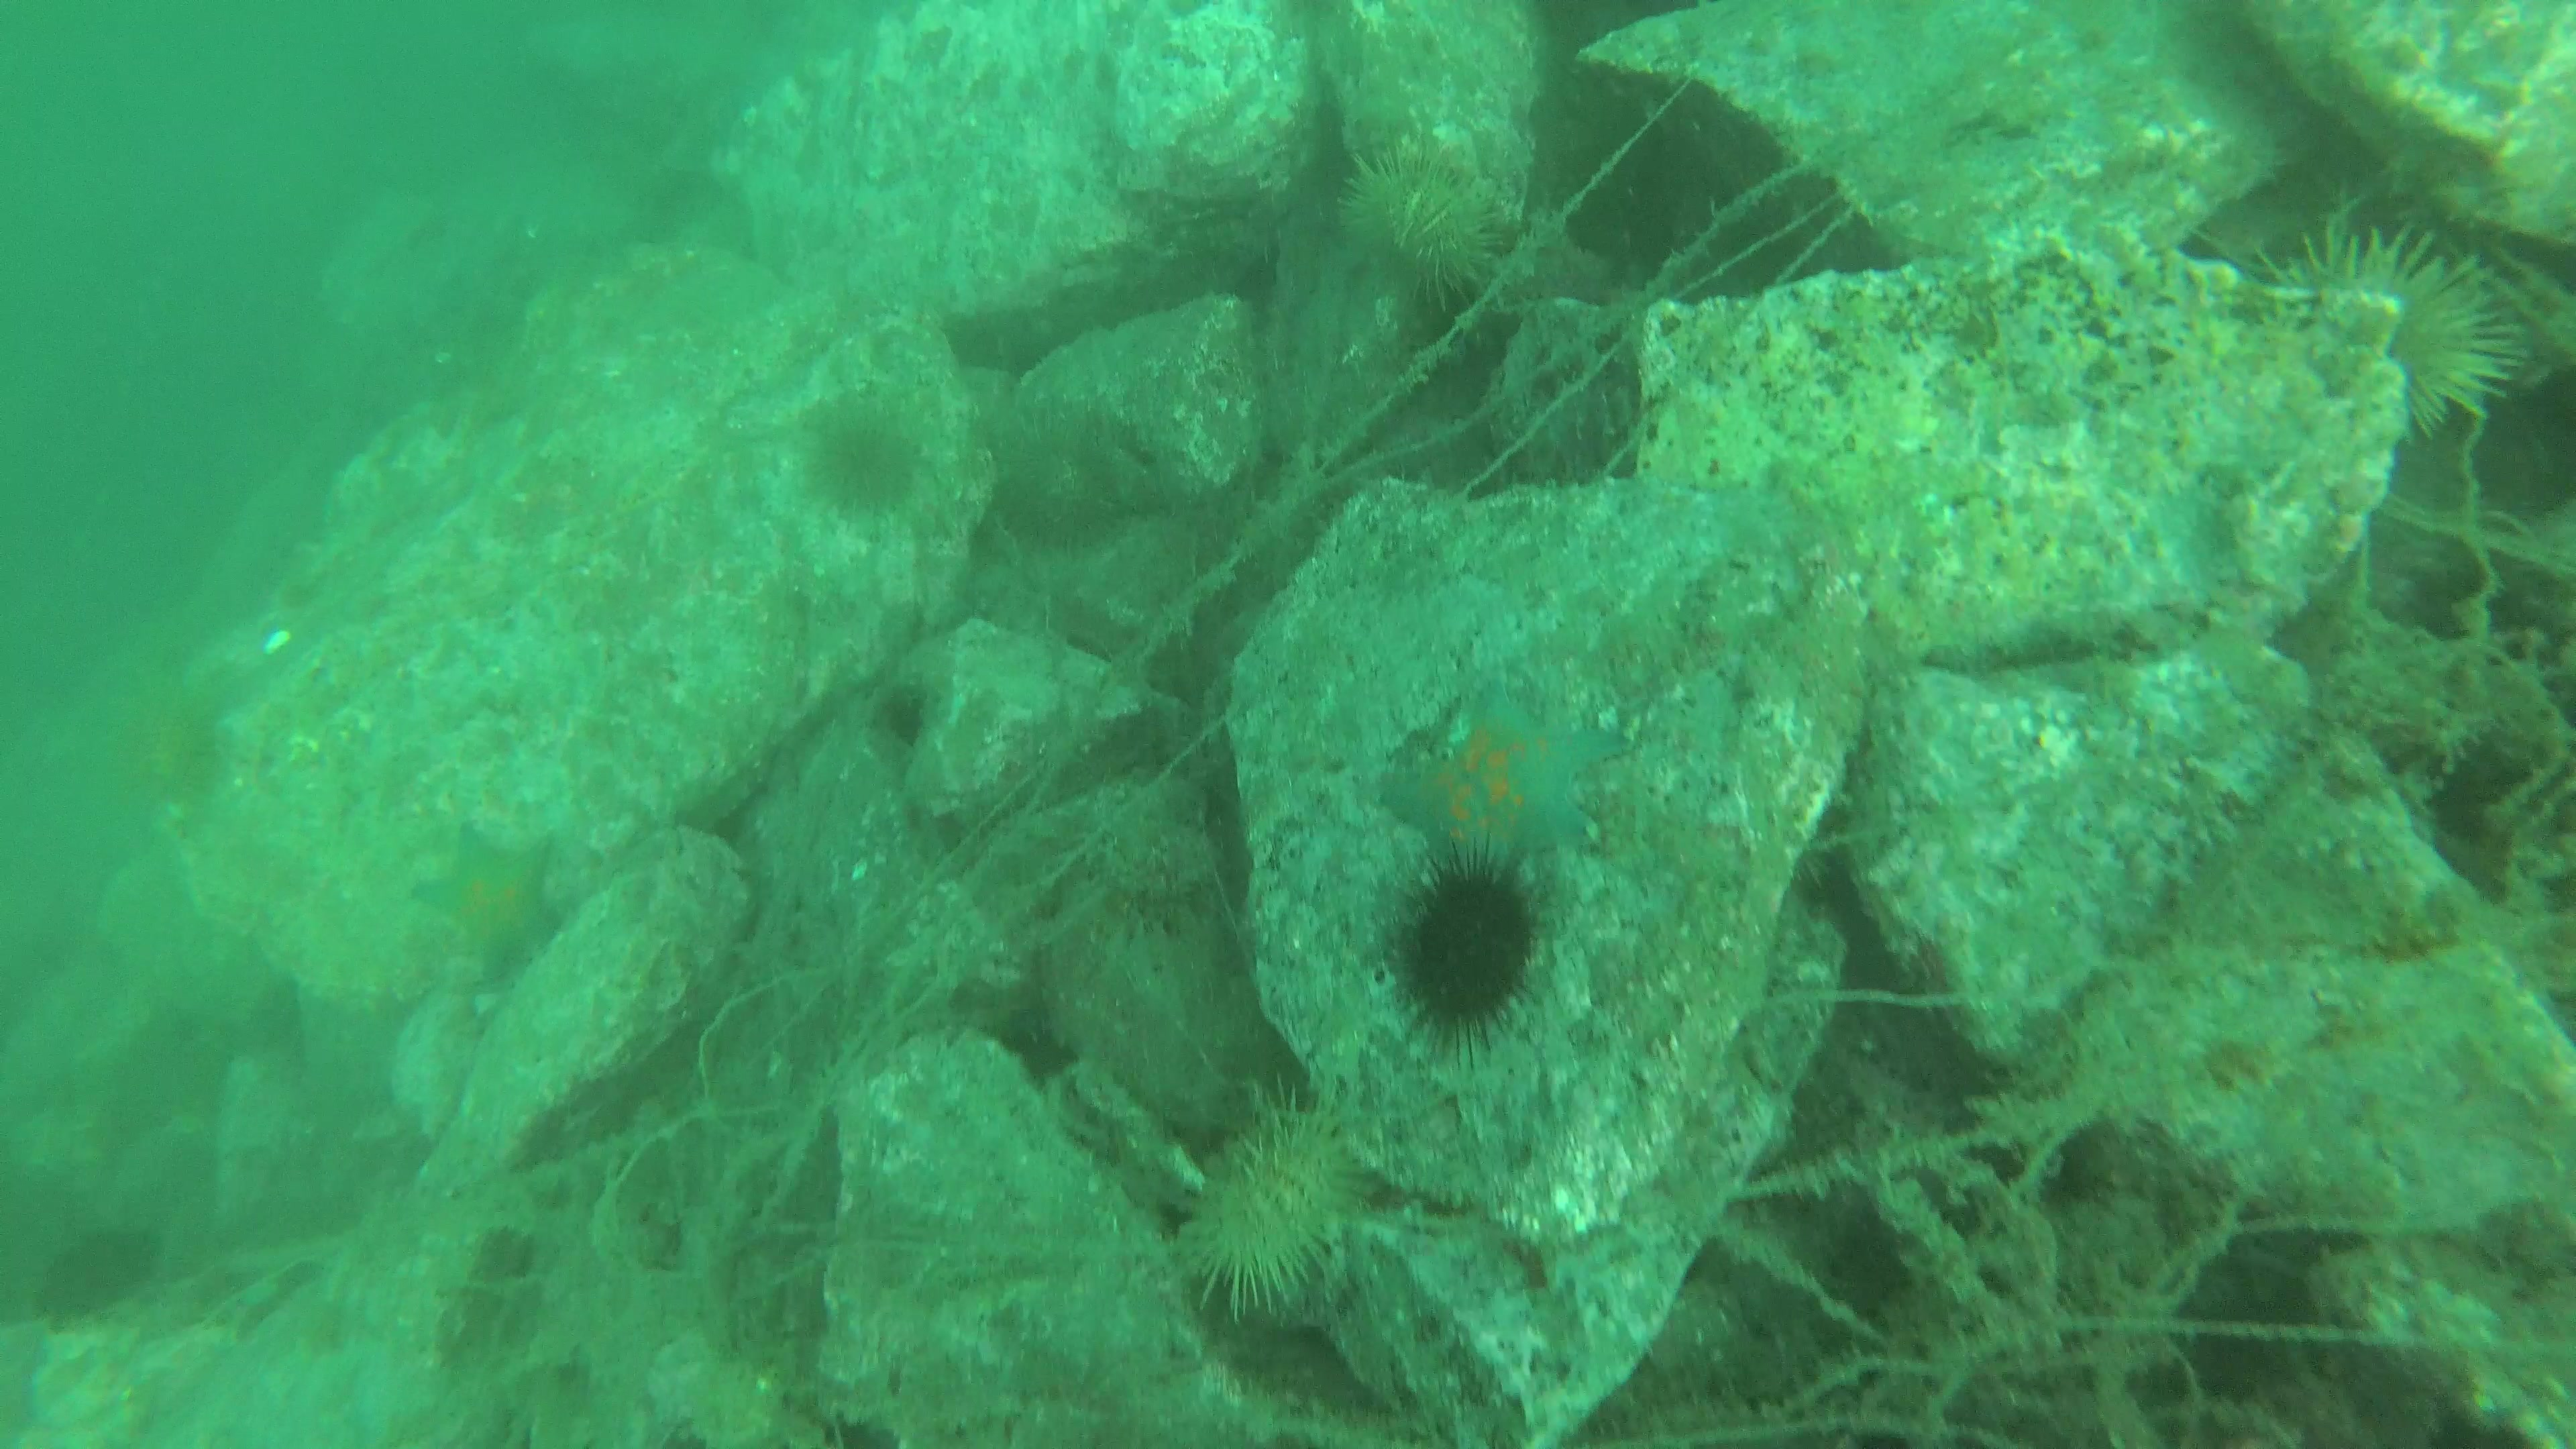echinus: (2270, 225, 2525, 437), (1150, 1102, 1384, 1327), (1369, 833, 1552, 1083), (1338, 142, 1527, 310), (771, 393, 938, 536), (30, 1224, 172, 1336)
starfish: (1382, 679, 1629, 902), (403, 819, 579, 989)
